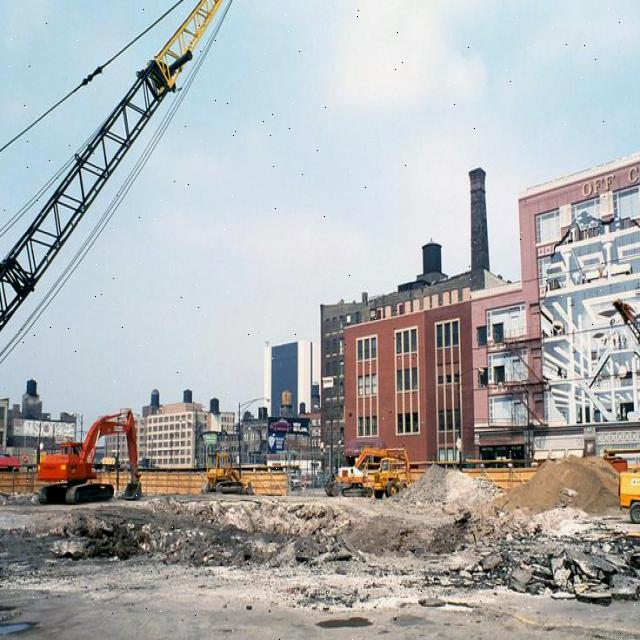Excavator: (36, 412, 144, 504), (326, 448, 414, 498)
